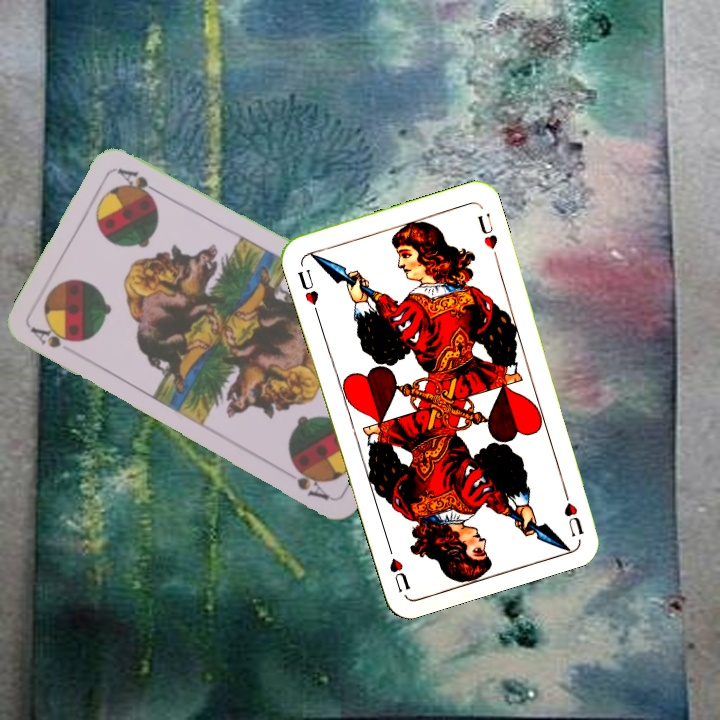HU: (558, 482, 586, 539), (293, 265, 322, 317)
SA: (27, 323, 76, 351)
